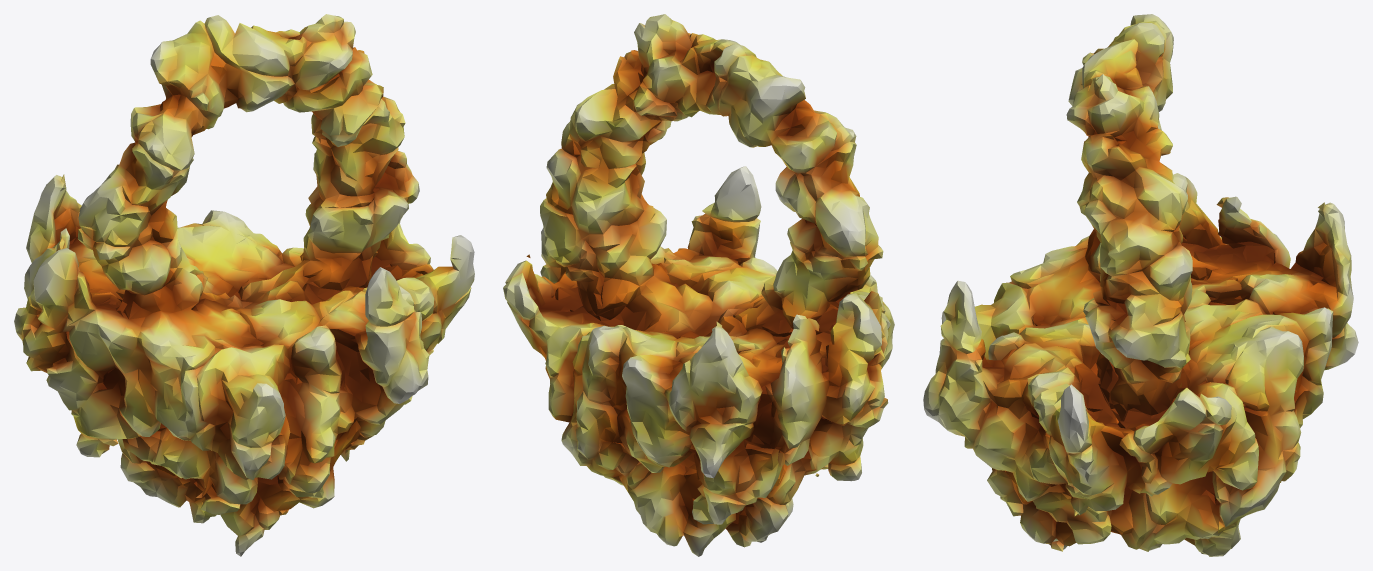
The model's file is Stylised_floating_04_mesh.fbx.
3 renders of one model, left to right at view 1: azimuth 30°, elevation 25°; view 2: azimuth 150°, elevation 25°; view 3: azimuth 270°, elevation 25°, orthographic. The views are drawn at different scales.
Visible parts, largest first — view 1: attribdelete3; view 2: attribdelete3; view 3: attribdelete3.
Part boxes in pixels (x1,y1,x2,y2): attribdelete3: (14,14,474,556); attribdelete3: (503,14,894,556); attribdelete3: (923,14,1358,556).
Bounding box in the file's own units: 23.18 × 28.12 × 20.76.
